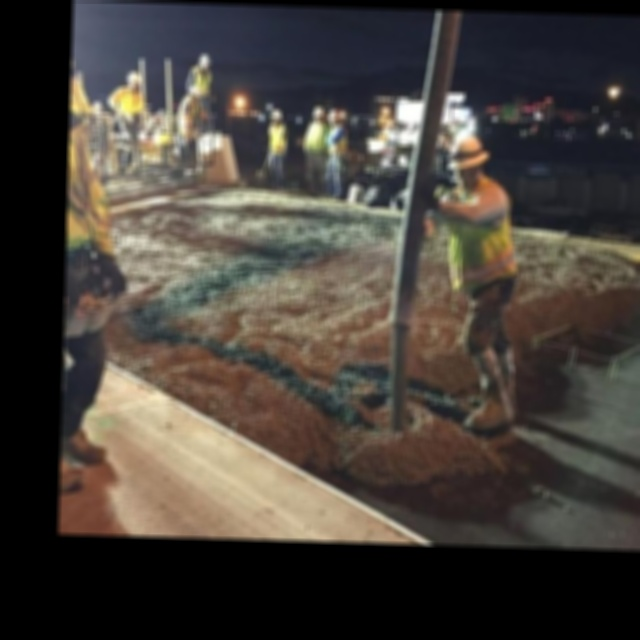Con_Casco: (446, 135, 488, 179)
Con_Chaleco: (442, 180, 520, 288), (189, 66, 212, 98), (269, 123, 289, 155)
